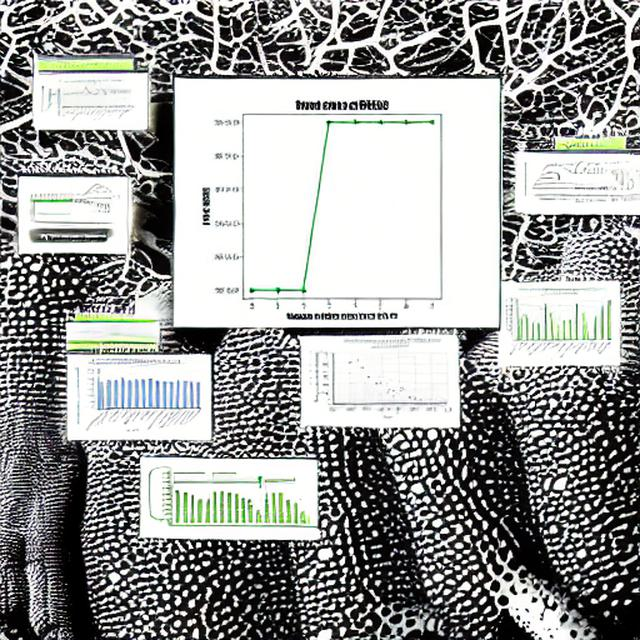Graph: (178, 85, 498, 325), (313, 336, 455, 423), (73, 360, 209, 436), (501, 284, 614, 364), (51, 78, 133, 126)
